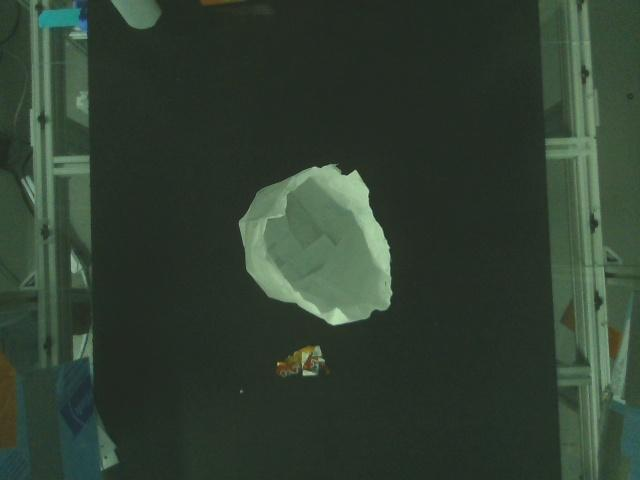cardboard: (107, 0, 164, 33), (196, 0, 260, 11)
paper: (235, 160, 396, 330)
plastic: (271, 340, 336, 387)
